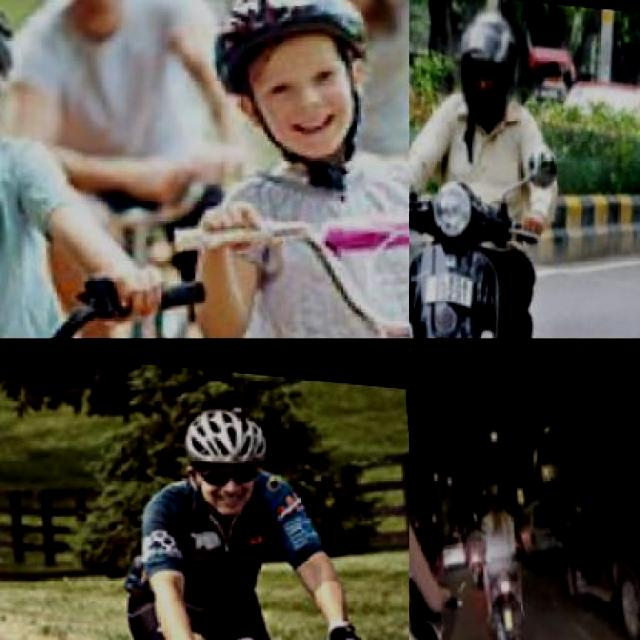With Helmet: (180, 0, 408, 197), (159, 382, 283, 516), (440, 0, 535, 123), (0, 0, 52, 191), (489, 465, 513, 500)
